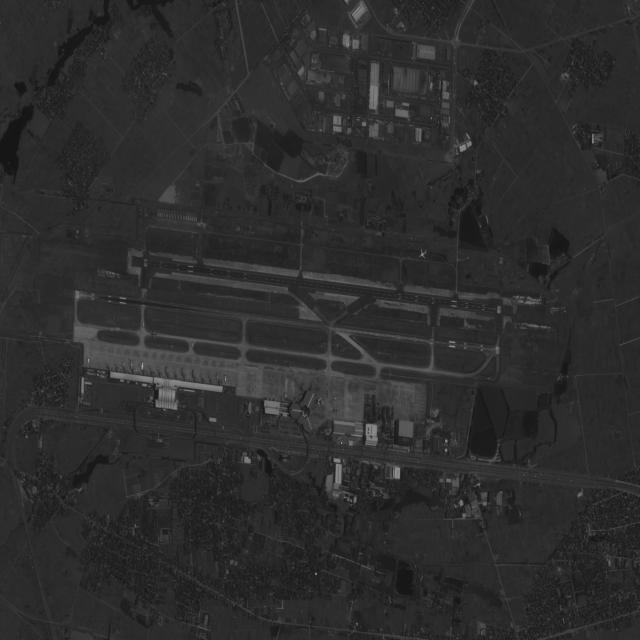plane: (416, 246, 430, 262), (314, 396, 325, 408), (137, 360, 147, 371), (127, 359, 136, 370), (150, 328, 158, 340), (247, 384, 255, 395), (188, 340, 196, 349), (298, 382, 306, 391), (486, 375, 494, 382), (332, 395, 339, 402), (163, 366, 169, 374), (190, 369, 196, 377), (222, 374, 228, 382), (247, 370, 253, 377), (332, 407, 338, 414), (140, 322, 146, 328), (214, 374, 220, 380), (180, 368, 185, 375), (283, 392, 288, 399), (86, 358, 91, 364), (269, 375, 274, 381), (121, 362, 126, 367)
storage-tank: (444, 439, 448, 444), (444, 449, 448, 453), (444, 444, 446, 446), (446, 444, 448, 446), (458, 435, 460, 437), (458, 438, 460, 440), (459, 444, 461, 446)
